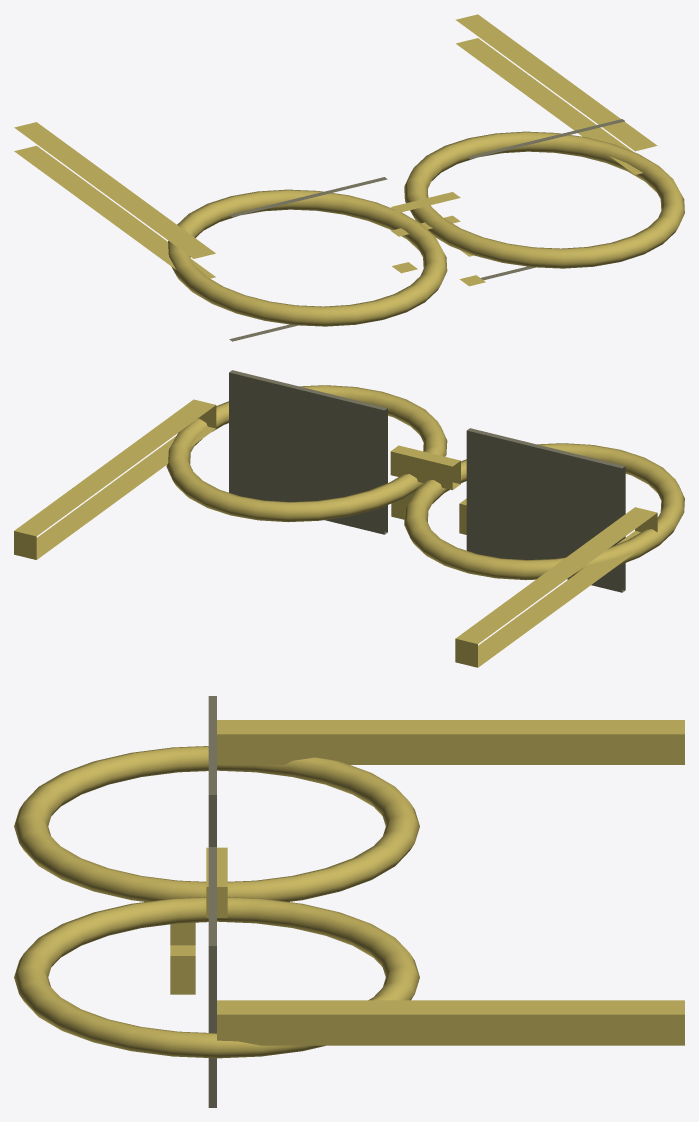
The model's file is aviator-gold.glb.
3 views of the same model, one above another, from view 1: azimuth 30°, elevation 25°; view 2: azimuth 150°, elevation 25°; view 3: azimuth 270°, elevation 25° (orthographic). The views are drawn at different scales.
Parts seen in each view (by area): view 1: aviator-gold; view 2: aviator-gold; view 3: aviator-gold.
Part boxes in pixels (x1,y1,x2,y2): aviator-gold: (14, 14, 684, 341); aviator-gold: (14, 370, 684, 667); aviator-gold: (14, 696, 684, 1107).
Bounding box in the file's own units: 1.67 × 0.42 × 1.58.
